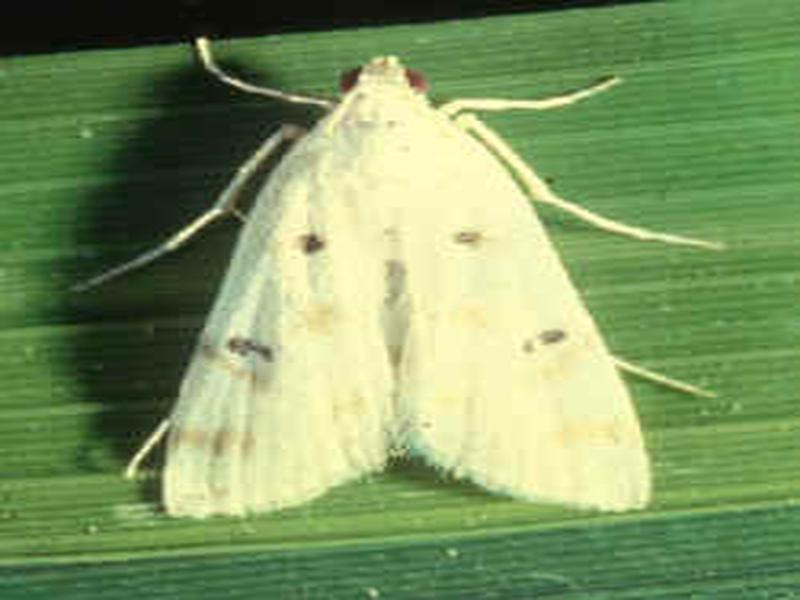Rice_case_worm: (122, 34, 687, 529)
